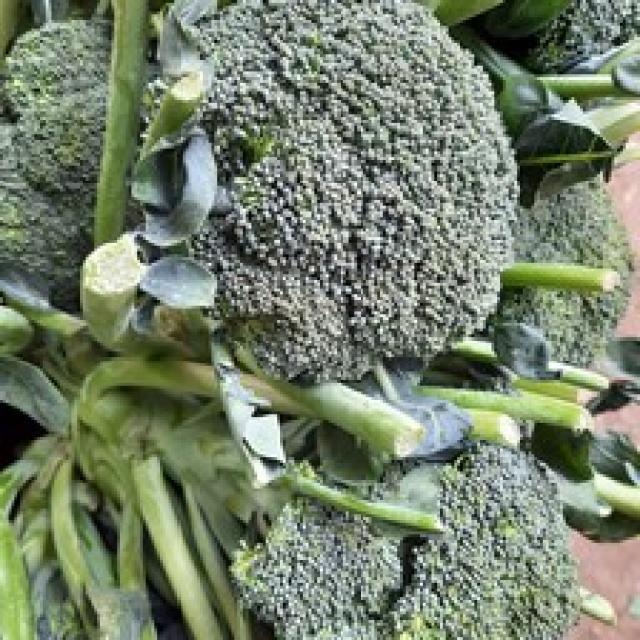Broccoli: (195, 0, 516, 381), (196, 0, 516, 379), (390, 445, 578, 640), (390, 446, 578, 640)
